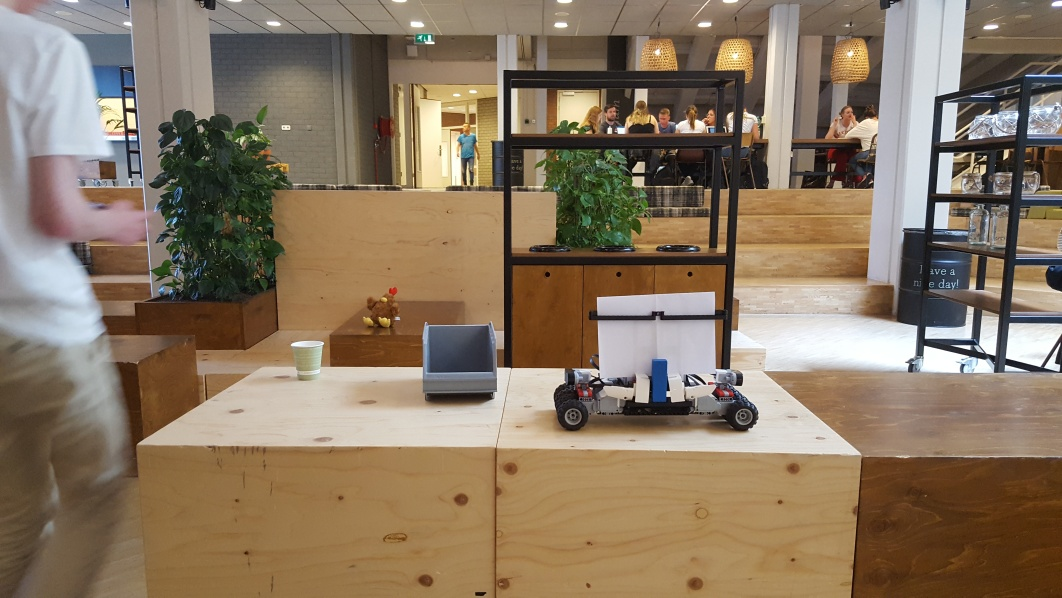beam: (650, 356, 669, 409)
chicken: (363, 286, 404, 328)
cup: (290, 339, 323, 381)
tray: (420, 319, 499, 407)
